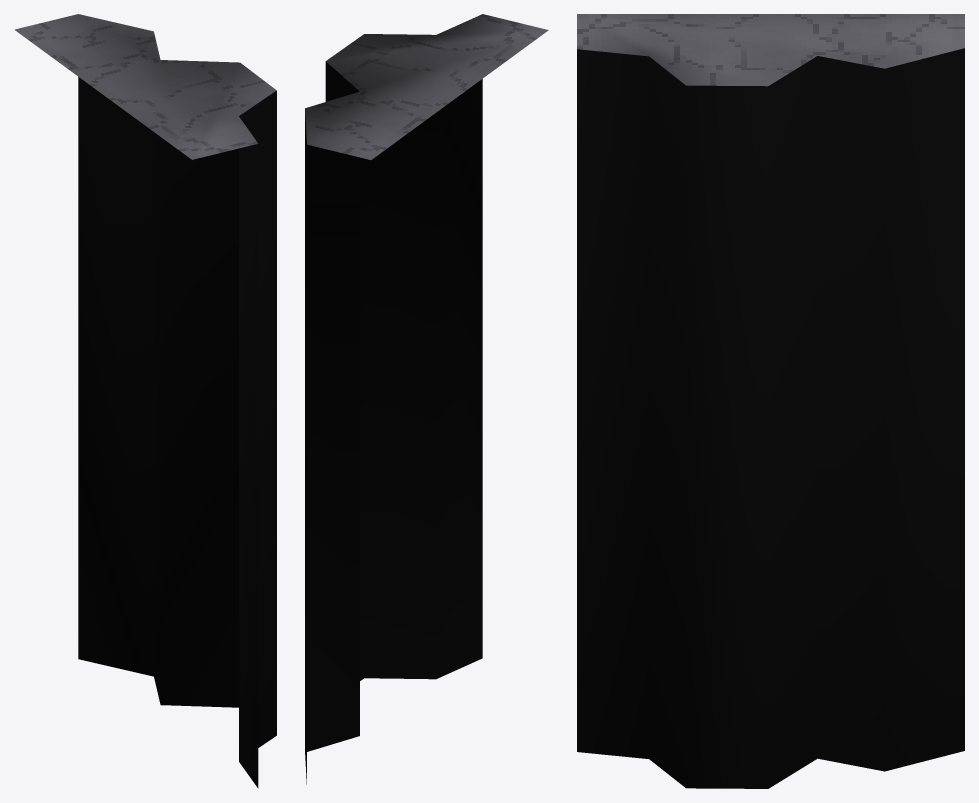
The model's file is hole_6.obj.
3 renders of one model, left to right at view 1: azimuth 30°, elevation 25°; view 2: azimuth 150°, elevation 25°; view 3: azimuth 270°, elevation 25°, orthographic. The views are drawn at different scales.
Visible parts, largest first — view 1: Cube_Cube.005; view 2: Cube_Cube.005; view 3: Cube_Cube.005.
Boxes of the visible parts, x1,y1,x2,y2 form: Cube_Cube.005: (14, 14, 276, 788); Cube_Cube.005: (305, 14, 548, 784); Cube_Cube.005: (577, 14, 964, 788).
Bounding box in the file's own units: 1.76 × 8 × 4.
Materials: 2 (1 with a texture image).
